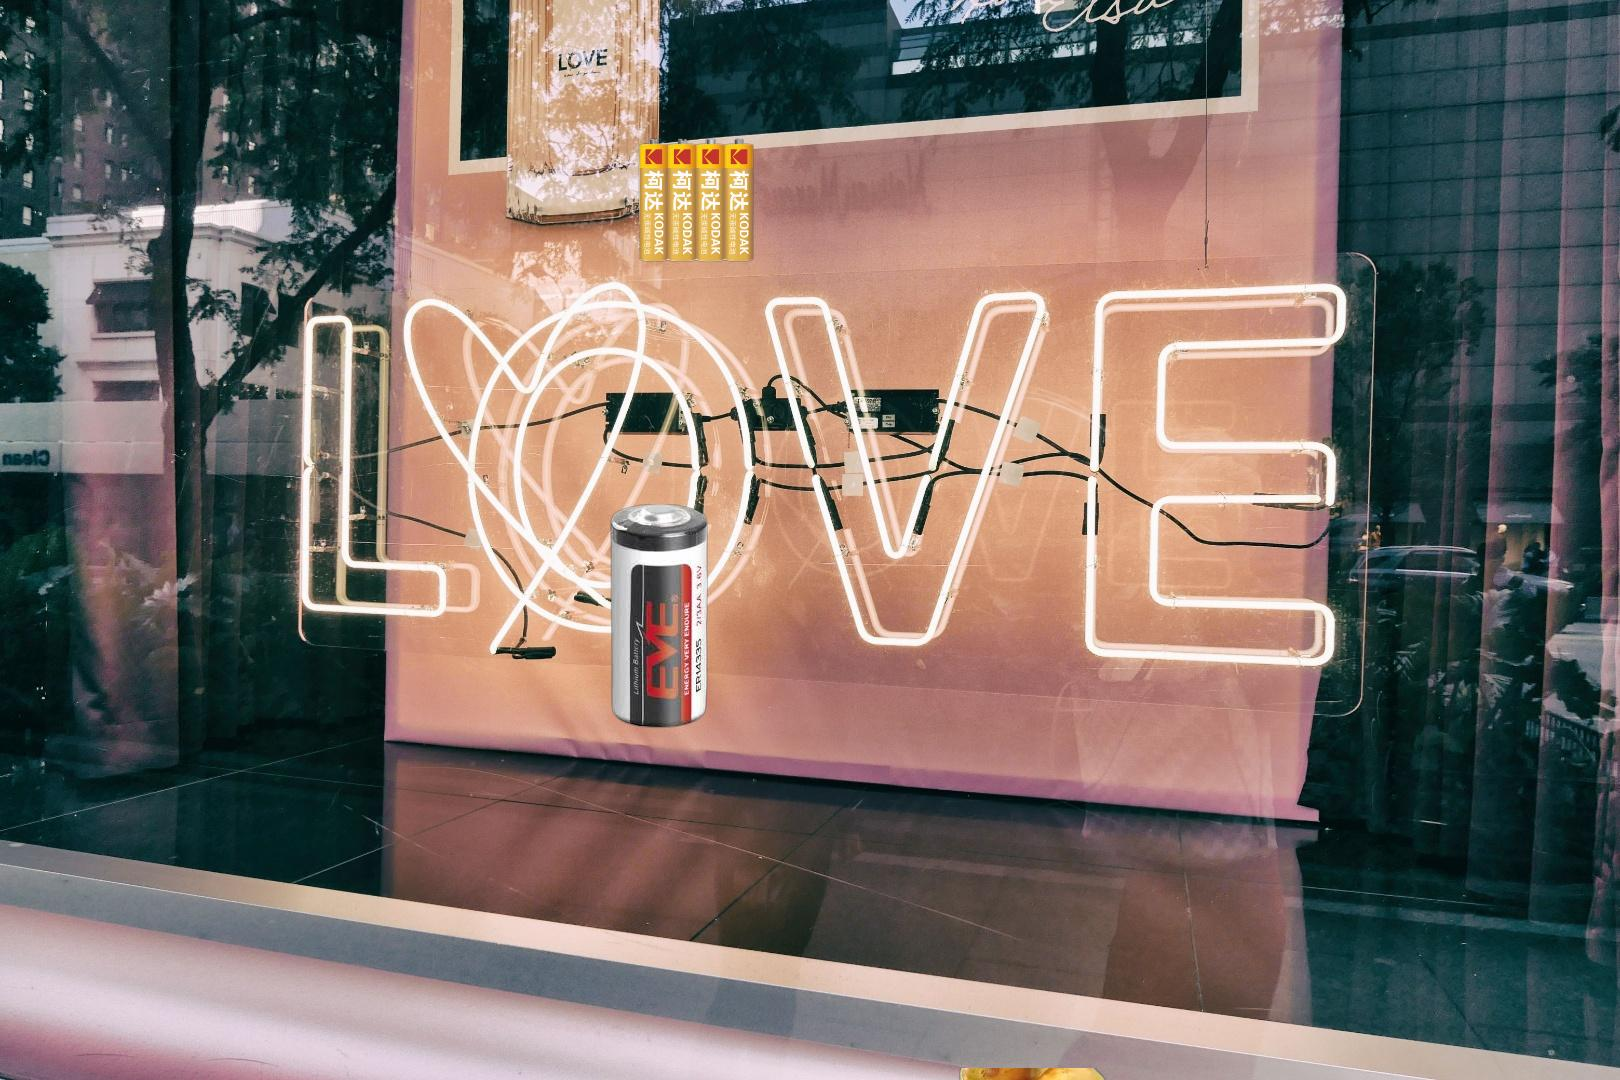battery: (607, 504, 710, 729), (636, 136, 756, 265)
biological: (853, 1068, 1113, 1080)
